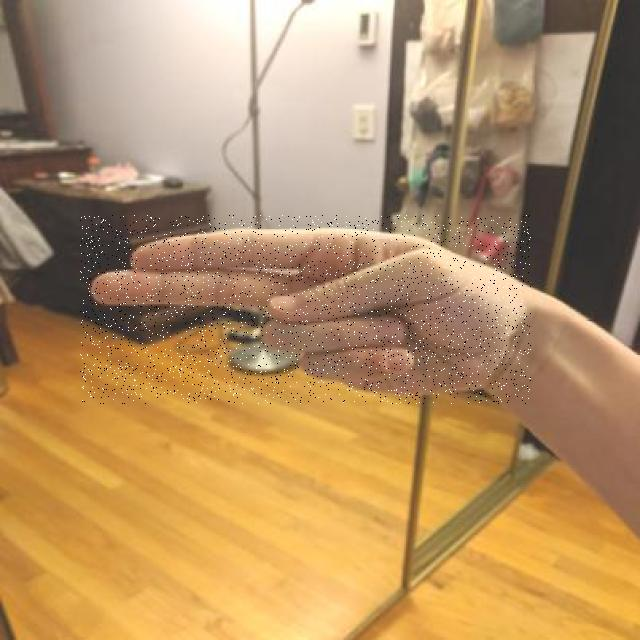H: (80, 215, 531, 404)
